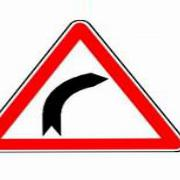right: (4, 18, 180, 153)
